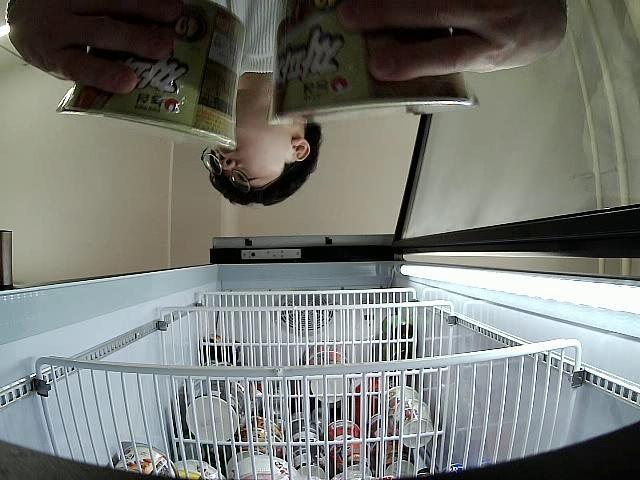03_chapagetti_L: (54, 0, 247, 153), (266, 0, 478, 125)
